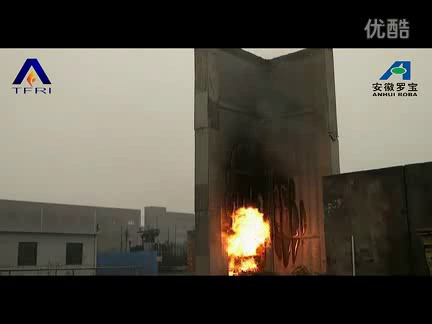fire: (223, 204, 273, 275)
